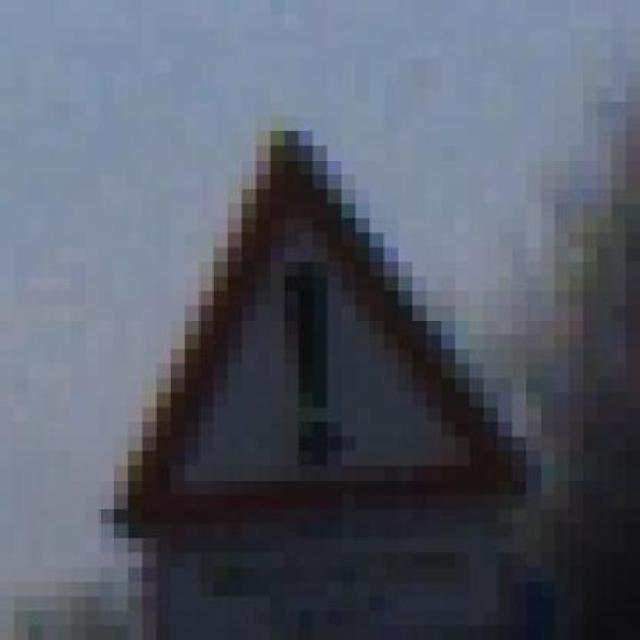Attention Please-: (57, 116, 569, 567)
